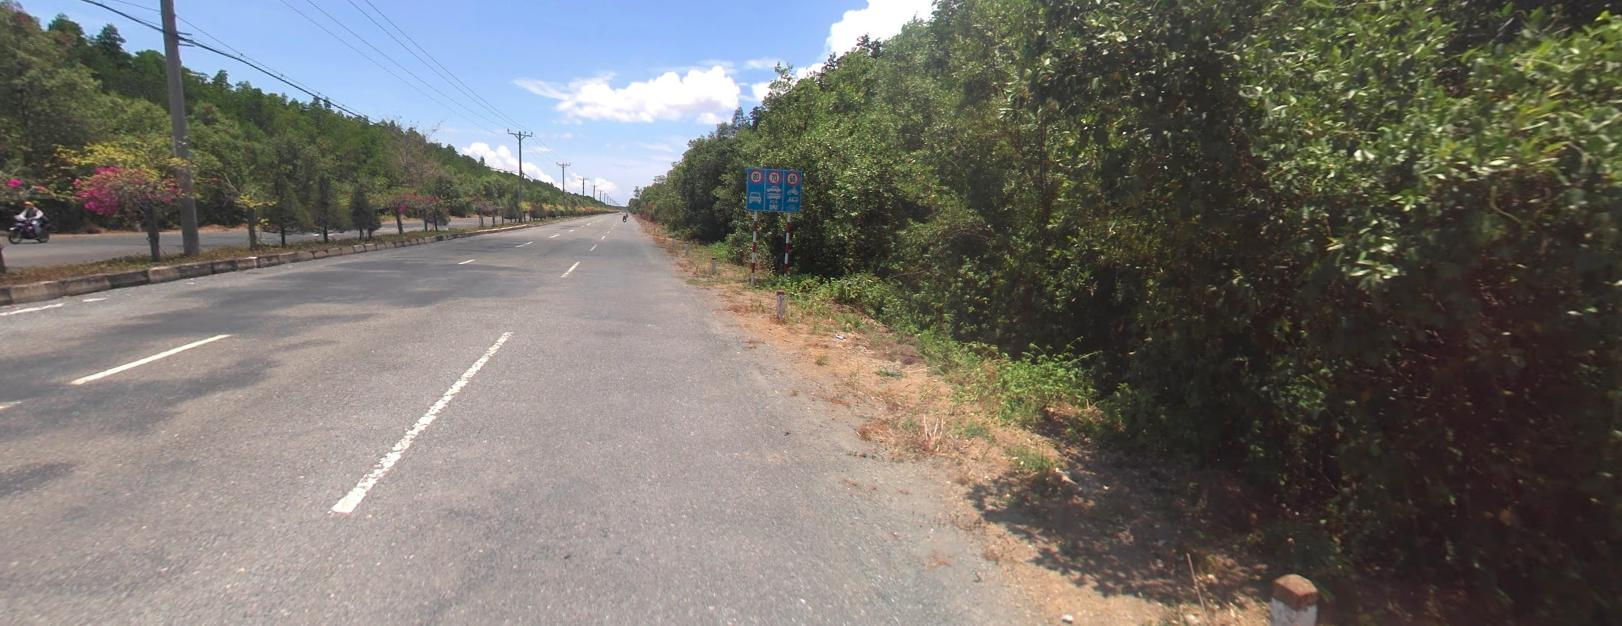Gioi han toc do: (748, 167, 763, 181), (767, 168, 780, 182), (785, 169, 799, 183)
